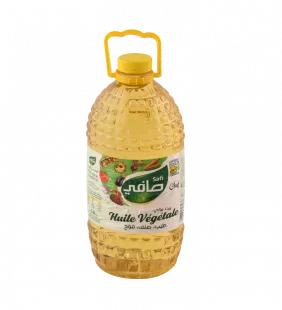Promotion: (76, 20, 196, 284)
